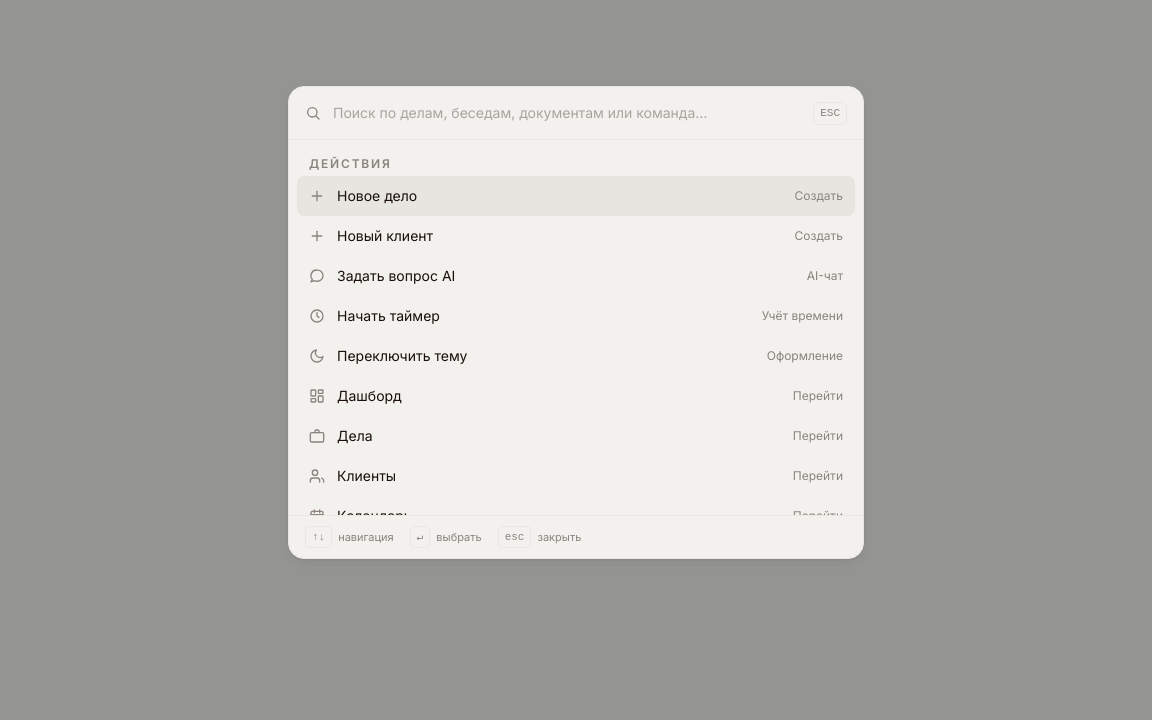
Test: CommandPalette › filters actions by query
Type "клиент" into the field named "Поиск и команды". click: [567, 113]
box: x1=333 y1=87 x2=801 y2=139
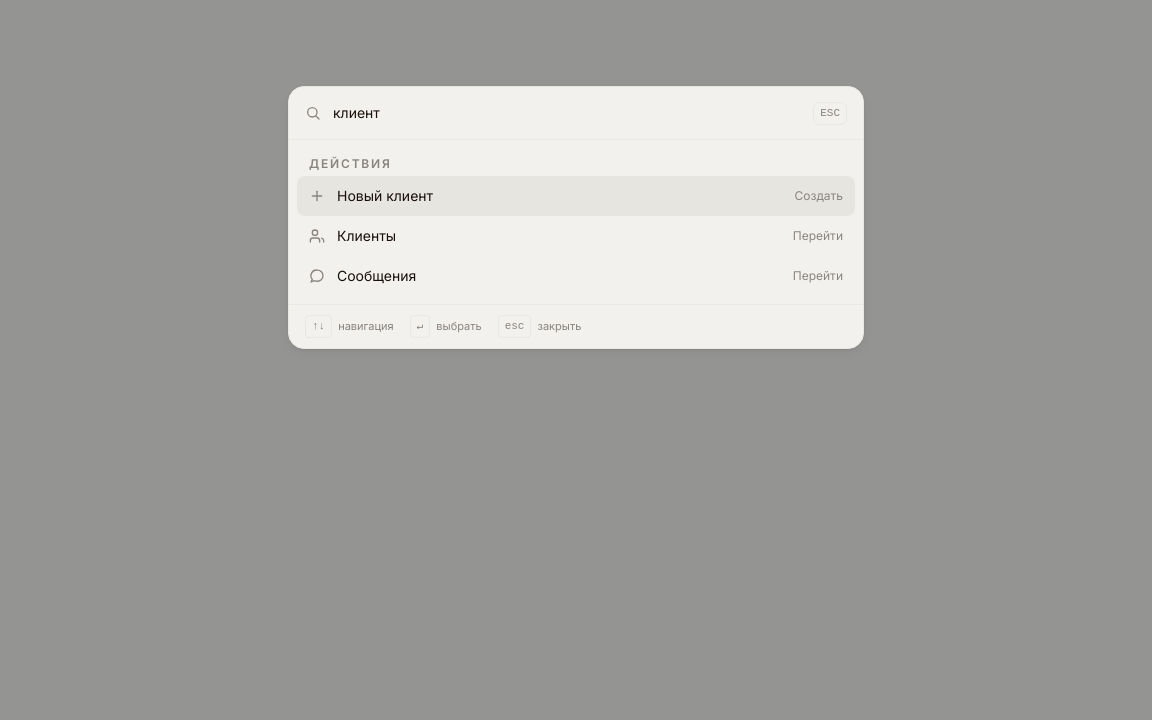
Expected: the text "Новый клиент" is shown, x1=337 y1=187 x2=433 y2=204
Result: the button "Задать вопрос AI" is gone
